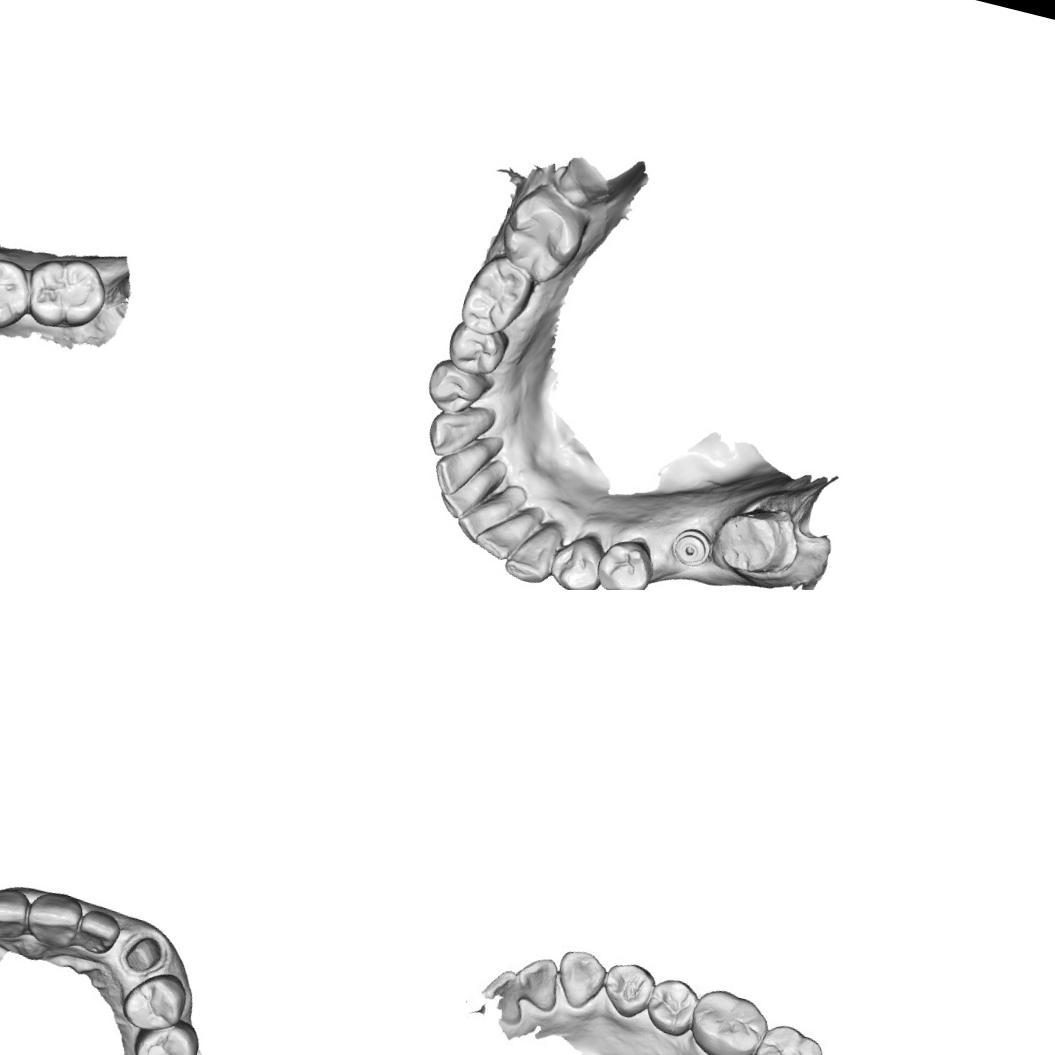canine: (500, 514, 566, 590), (421, 403, 486, 466), (553, 946, 612, 1012)
crown: (706, 496, 800, 586), (115, 926, 170, 982)
implant: (667, 521, 714, 570)
incisor: (20, 886, 87, 952), (454, 488, 514, 549), (426, 438, 481, 500), (470, 507, 528, 565), (514, 956, 565, 1012), (436, 469, 486, 522), (74, 906, 124, 958), (0, 879, 35, 946)
molar: (490, 181, 594, 293), (18, 247, 114, 338), (454, 246, 541, 344), (686, 985, 770, 1055), (0, 246, 35, 338), (751, 1016, 831, 1055)
premolar: (116, 963, 192, 1038), (419, 355, 493, 424), (439, 317, 511, 382), (644, 971, 706, 1042), (544, 526, 612, 590), (591, 529, 660, 590), (597, 956, 655, 1022), (127, 1010, 204, 1055)
